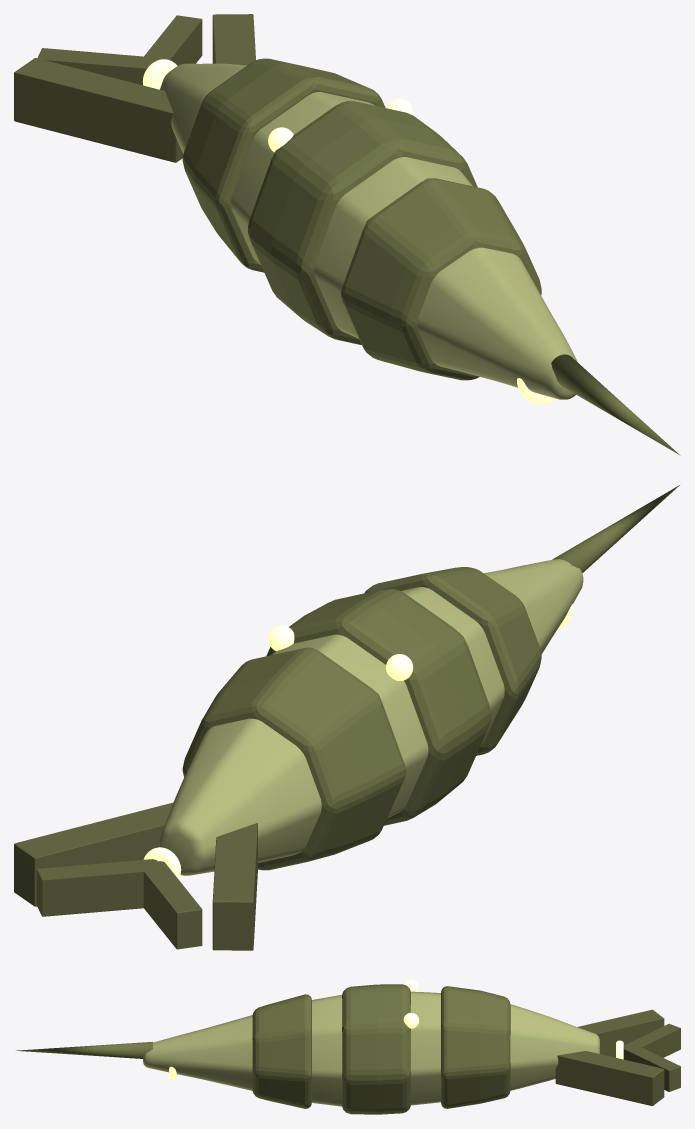
The model's file is krithul-scout.glb.
The picture shows the model from 3 angles, top to bottom: view 1: azimuth 30°, elevation 25°; view 2: azimuth 150°, elevation 25°; view 3: azimuth 270°, elevation 25°; orthographic projection. The views are drawn at different scales.
Parts seen in each view (by area): view 1: hull, hull.002, hull.003, hull.001, Cube, Cone, Cube.001, Cube.002, Cube.003; view 2: hull, hull.001, hull.002, hull.003, Cube.002, Cube.003, Cube, Cube.001, Cone; view 3: hull, hull.002, hull.001, hull.003, Cube.002, Cube, Cone, Cube.001, Cube.003.
Boxes of the visible parts, bbox=[...] form: hull: bbox=[160, 63, 577, 399]; hull.002: bbox=[248, 101, 477, 345]; hull.003: bbox=[341, 178, 541, 380]; hull.001: bbox=[182, 58, 385, 272]; Cube: bbox=[14, 58, 183, 162]; Cone: bbox=[551, 354, 680, 455]; Cube.001: bbox=[37, 48, 159, 85]; Cube.002: bbox=[212, 14, 255, 65]; Cube.003: bbox=[140, 15, 202, 65]; hull: bbox=[159, 559, 583, 875]; hull.001: bbox=[182, 647, 405, 870]; hull.002: bbox=[266, 589, 491, 825]; hull.003: bbox=[364, 567, 541, 755]; Cube.002: bbox=[14, 802, 173, 906]; Cube.003: bbox=[36, 859, 159, 916]; Cube: bbox=[212, 823, 257, 950]; Cube.001: bbox=[140, 861, 202, 949]; Cone: bbox=[552, 485, 679, 572]; hull: bbox=[143, 991, 599, 1106]; hull.002: bbox=[342, 984, 410, 1114]; hull.001: bbox=[441, 986, 510, 1108]; hull.003: bbox=[252, 994, 311, 1108]; Cube.002: bbox=[555, 1051, 664, 1105]; Cube: bbox=[577, 1009, 664, 1057]; Cone: bbox=[16, 1042, 152, 1058]; Cube.001: bbox=[623, 1023, 680, 1057]; Cube.003: bbox=[623, 1047, 680, 1091].
Size of the model in its own units: 0.8111 by 0.6922 by 3.36.
